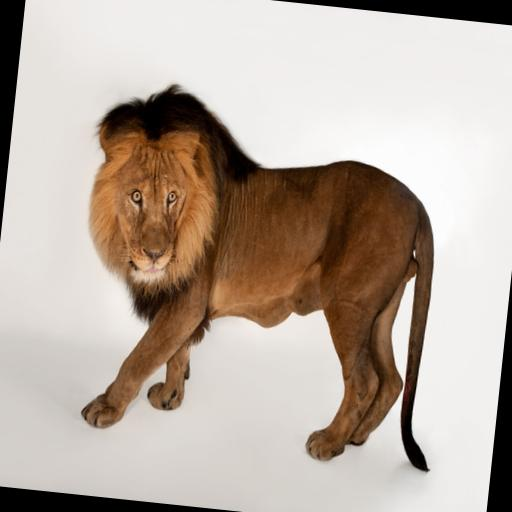lions: (36, 76, 436, 462)
